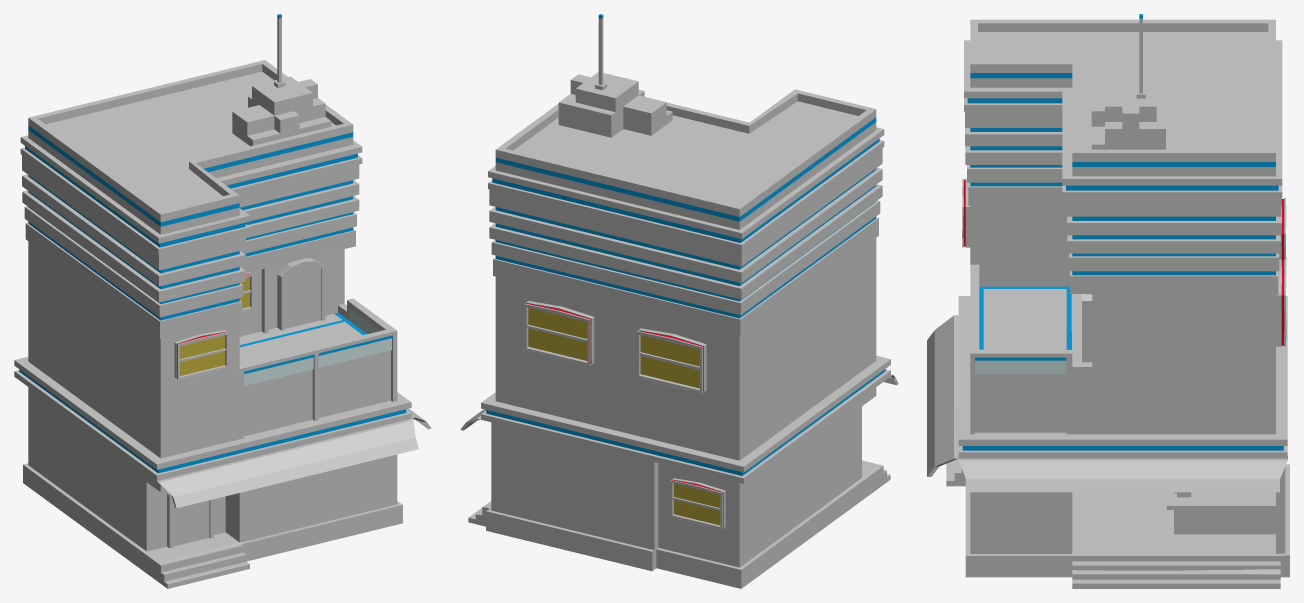
The model's file is House_NeoHouse04.fbx.
The picture shows the model from 3 angles, left to right: view 1: azimuth 30°, elevation 25°; view 2: azimuth 150°, elevation 25°; view 3: azimuth 270°, elevation 25°; orthographic projection. The views are drawn at different scales.
Visible parts, largest first — view 1: CubeHome.000; view 2: CubeHome.000; view 3: CubeHome.000.
Part boxes in pixels (left/top/right/bottom): CubeHome.000: left=14, top=14, right=431, bottom=588; CubeHome.000: left=460, top=14, right=898, bottom=588; CubeHome.000: left=927, top=14, right=1289, bottom=588.
Bounding box in the file's own units: 650 × 1037 × 637.
